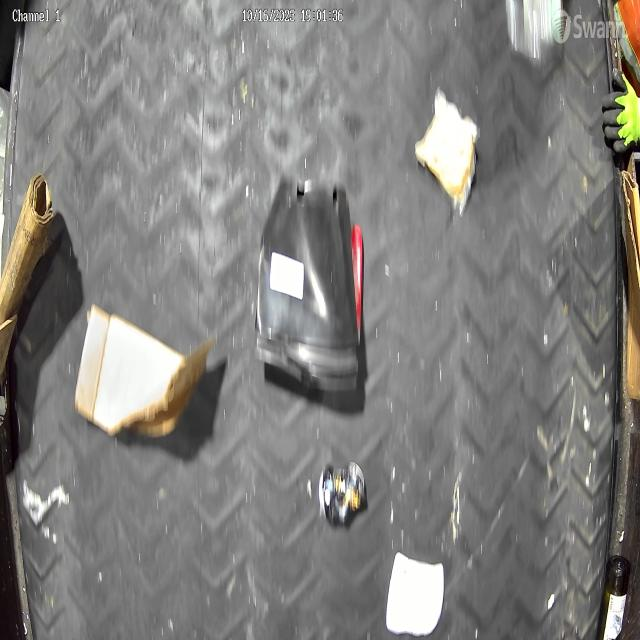can: (416, 91, 480, 213), (318, 464, 366, 526)
non_white_jug: (257, 172, 362, 388)
